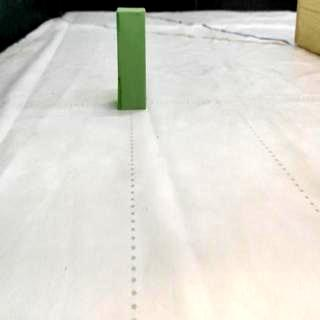greenbox: (115, 5, 146, 111)
